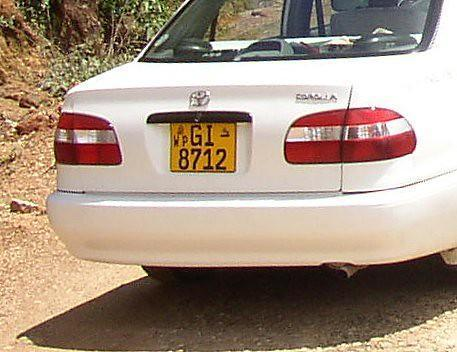license-plate: (168, 122, 235, 171)
